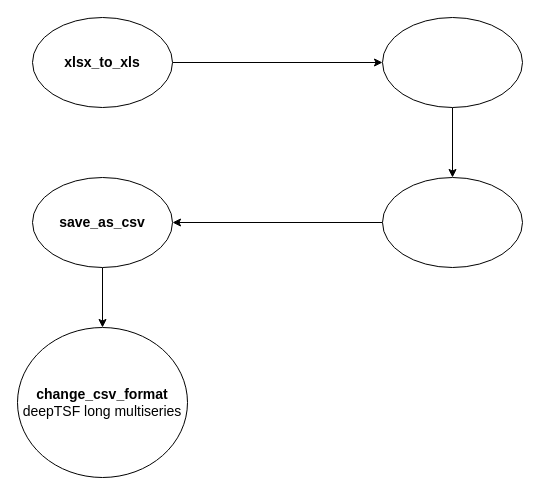
Some shapes in this 540 by 495 pixel diagram are drawn without their labels. The shapes that lost their labels are listed below. From the top down, each one's centre as x and y in pixels, then its label:
At pixel 452 62: "read_files".
At pixel 452 222: "merge_files".
